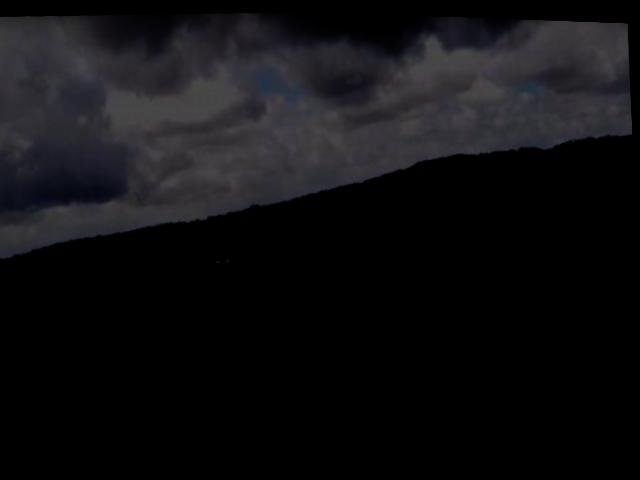iha: (204, 254, 234, 268)
